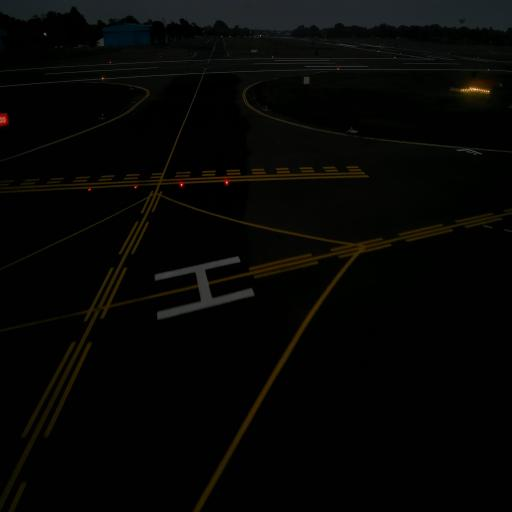on: (176, 178, 186, 193), (132, 180, 141, 196), (223, 178, 233, 190), (87, 184, 94, 195)
